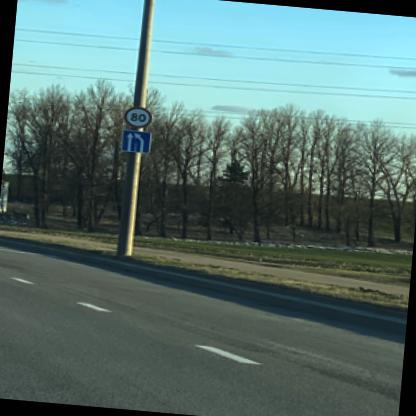speedlimit: (122, 105, 150, 127)
